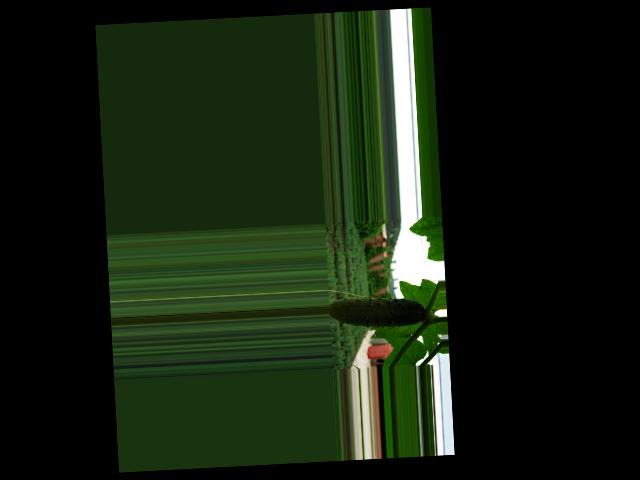cucumber: (327, 294, 424, 329)
